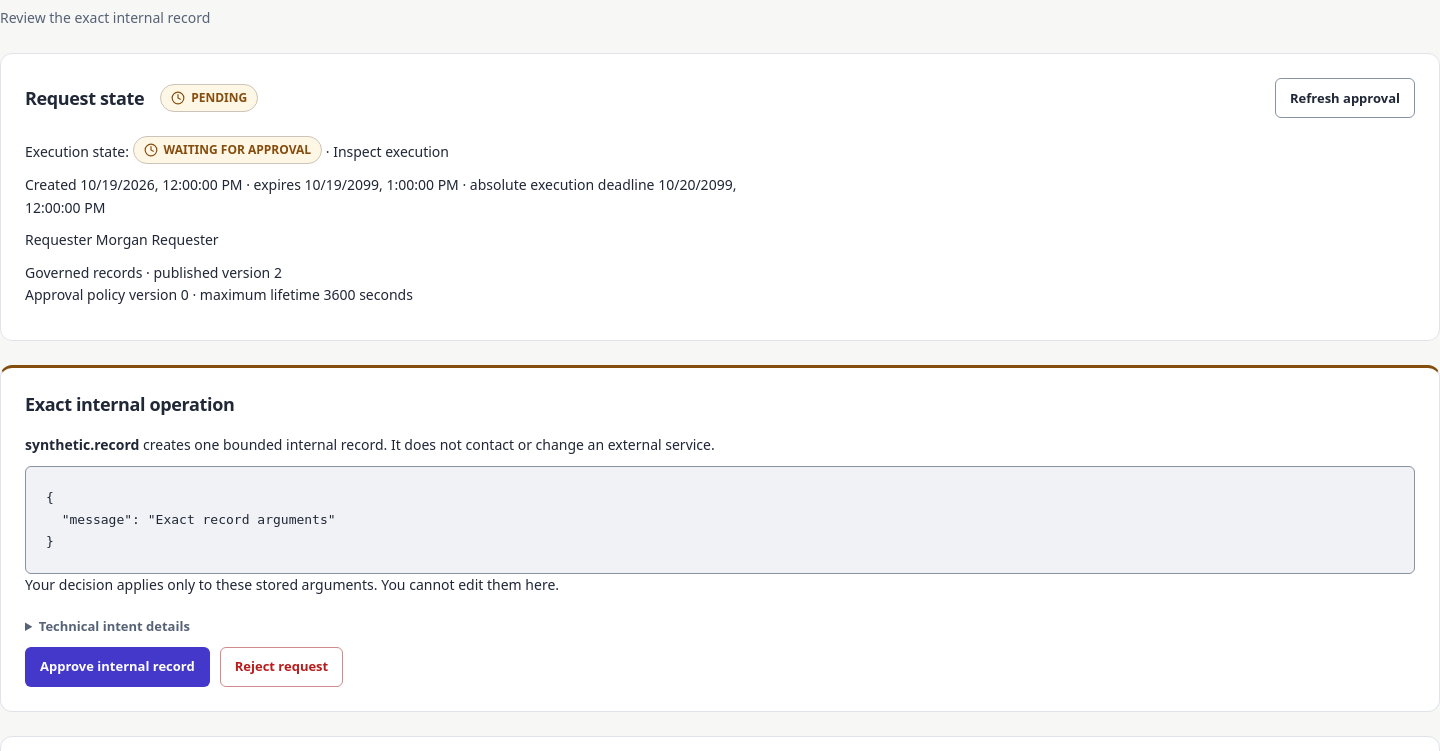
Scenario: renders persisted rejection and preserves a final decision after a stale-tab conflict
Click the button "Approve internal record" at point(117, 667), box [25, 647, 210, 687]
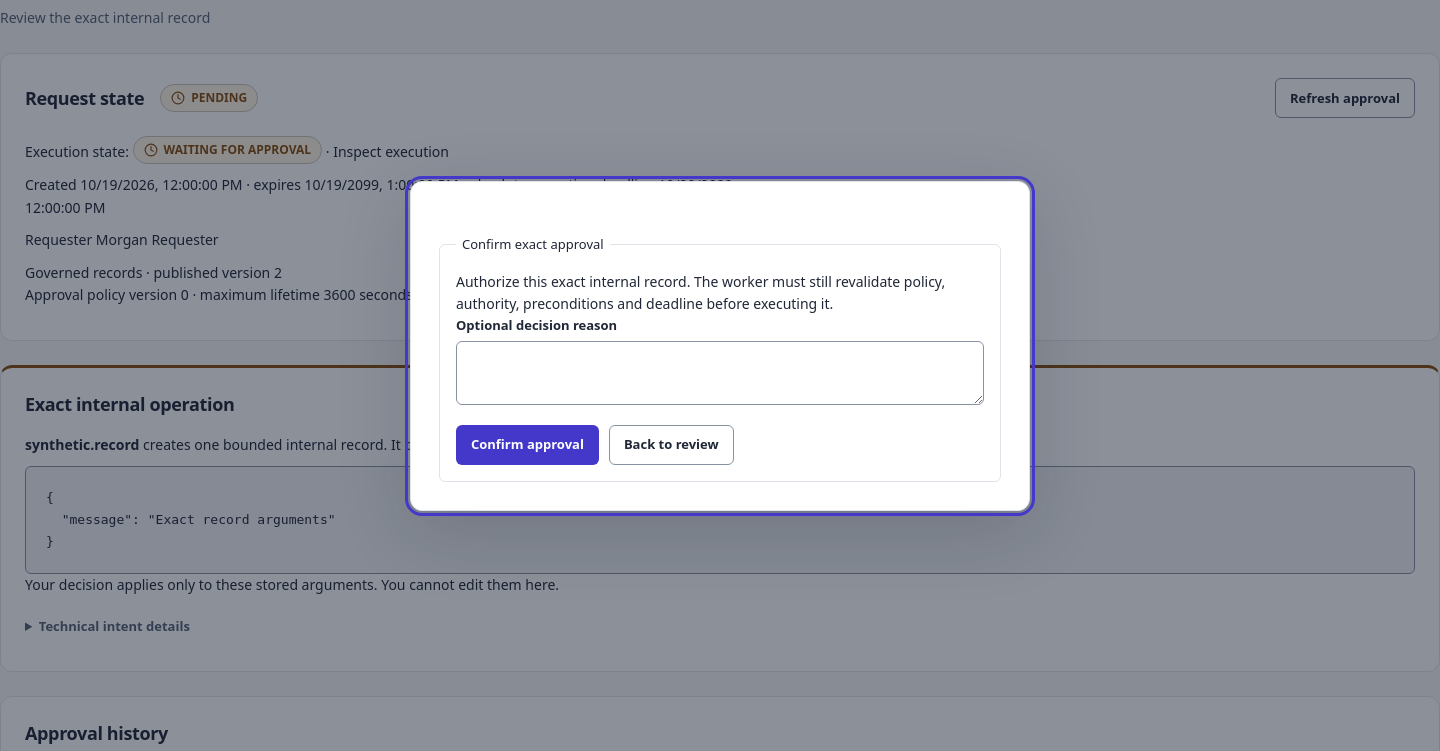
Click the button "Confirm approval" at point(527, 445), box [456, 425, 599, 465]
(page scrolled)
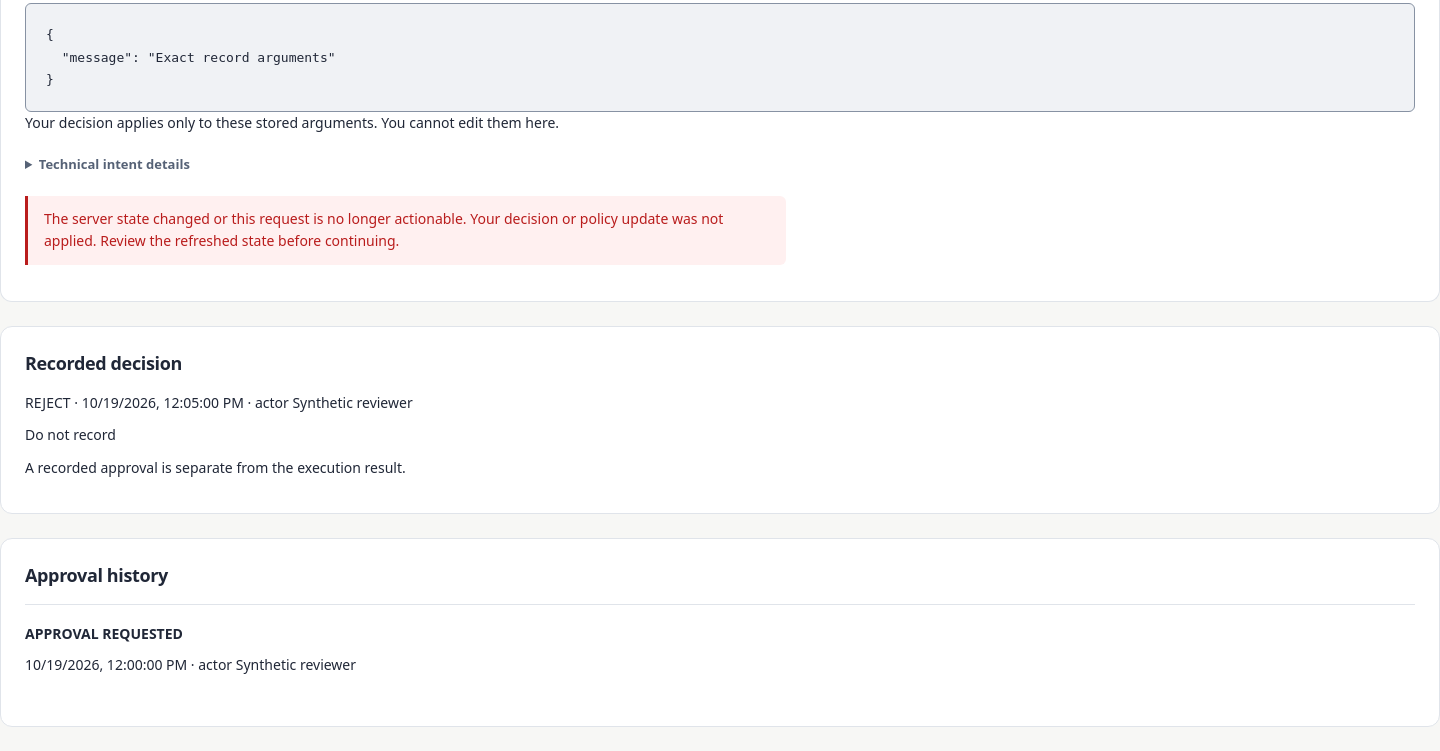
Expected: the button "Approve internal record" is not shown
Now the text "Your decision or policy update was not applied" is shown, box [44, 209, 723, 250]
Now the text "Do not record" is shown, box [25, 425, 116, 444]
